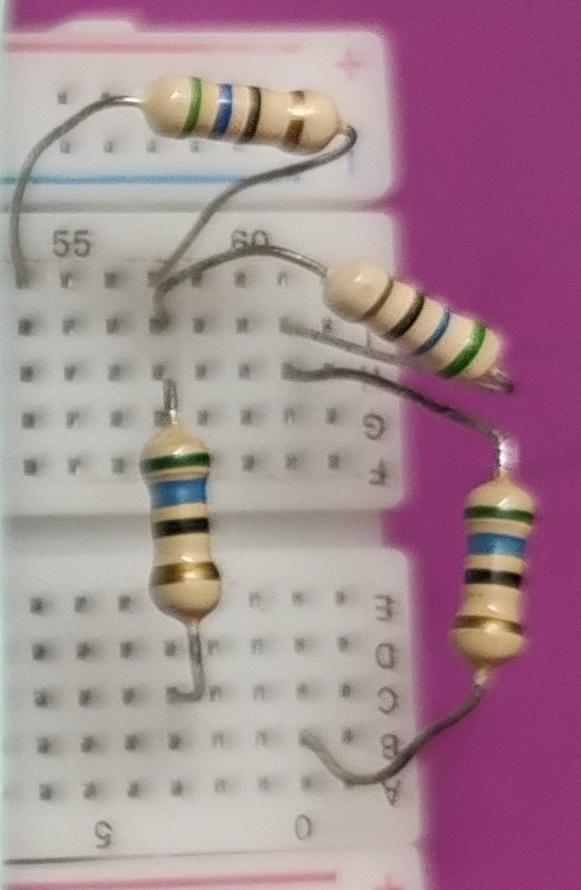resistor: (310, 242, 528, 395), (123, 415, 258, 638), (140, 65, 358, 172), (448, 452, 545, 675)
